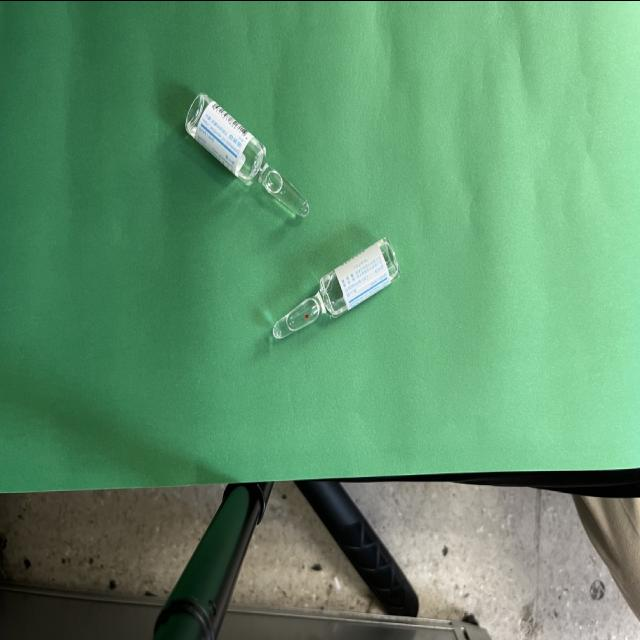Ampoules: (184, 91, 308, 216), (272, 236, 398, 337)
